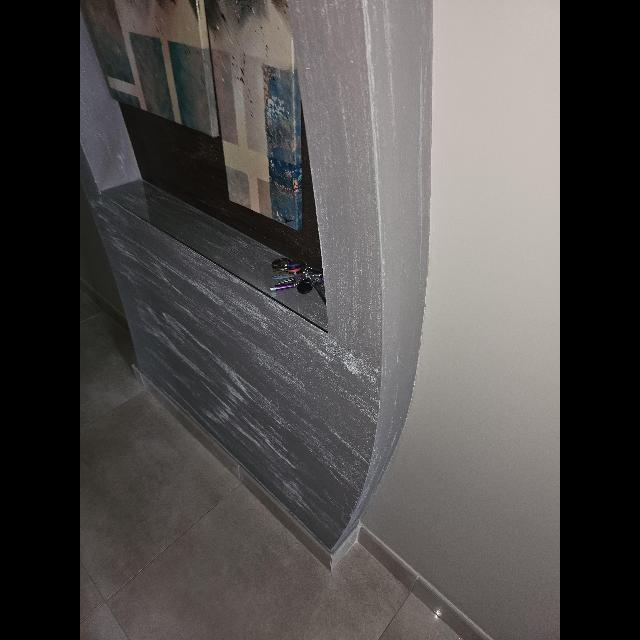Keys: (270, 260, 322, 304)
